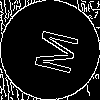M: (25, 25, 79, 77)
